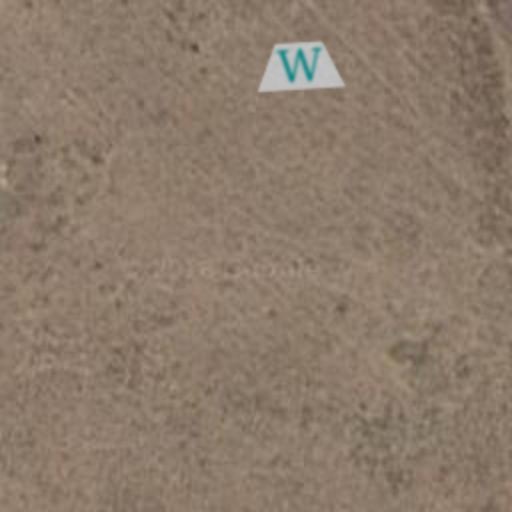trapezoid: (252, 18, 348, 114)
